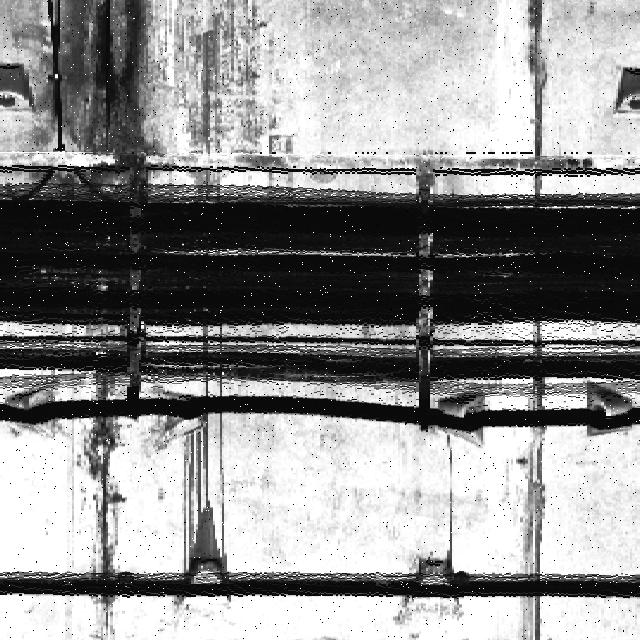leakage: (41, 0, 166, 187), (174, 367, 233, 568)
